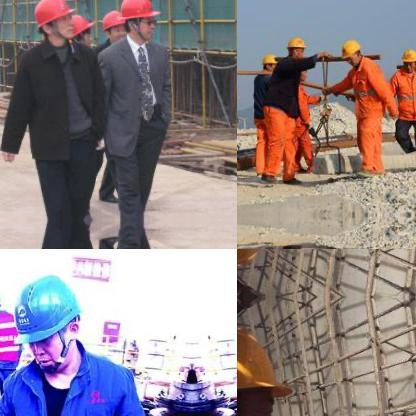Helmet: (10, 260, 84, 378), (237, 317, 303, 415), (32, 0, 74, 43), (119, 0, 155, 40), (101, 9, 124, 43), (68, 15, 92, 44), (284, 33, 308, 61), (339, 37, 363, 63), (398, 46, 415, 73), (259, 51, 277, 72)
